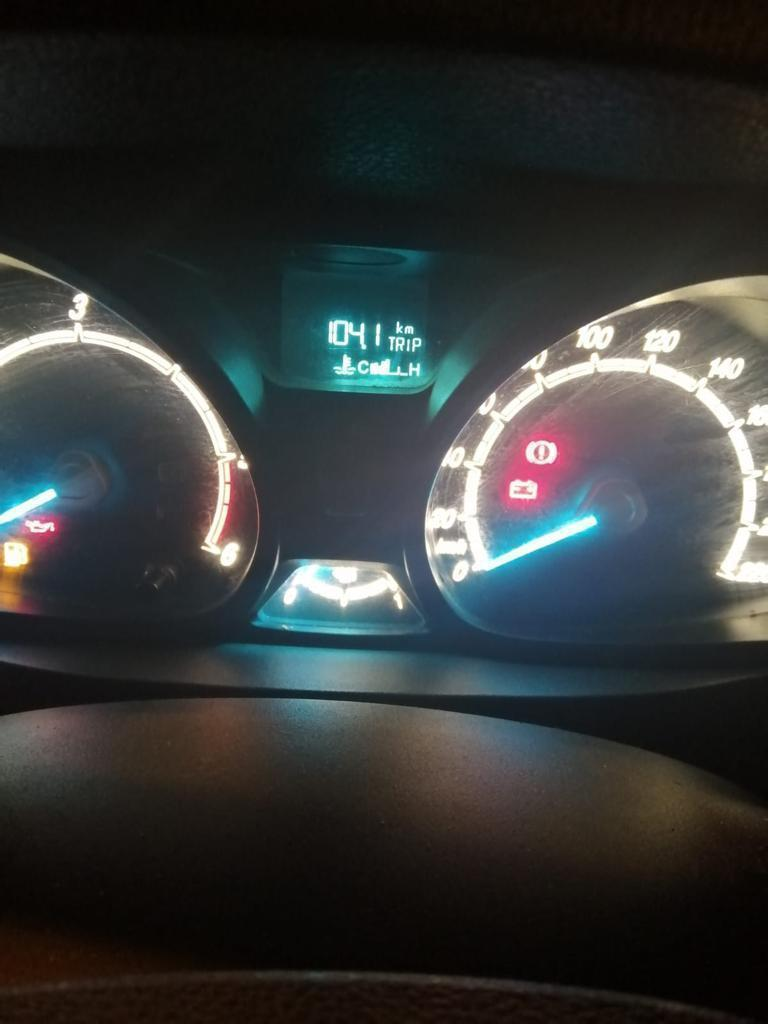,: (361, 344, 367, 351)
0: (333, 318, 349, 347)
1: (324, 318, 333, 345), (373, 320, 381, 349)
4: (349, 320, 365, 344)
X: (356, 357, 369, 375), (407, 361, 421, 377), (411, 336, 421, 353), (395, 336, 405, 351), (394, 320, 403, 334), (387, 334, 394, 351), (403, 324, 414, 334), (405, 337, 410, 352)
odometer: (272, 263, 445, 396)
